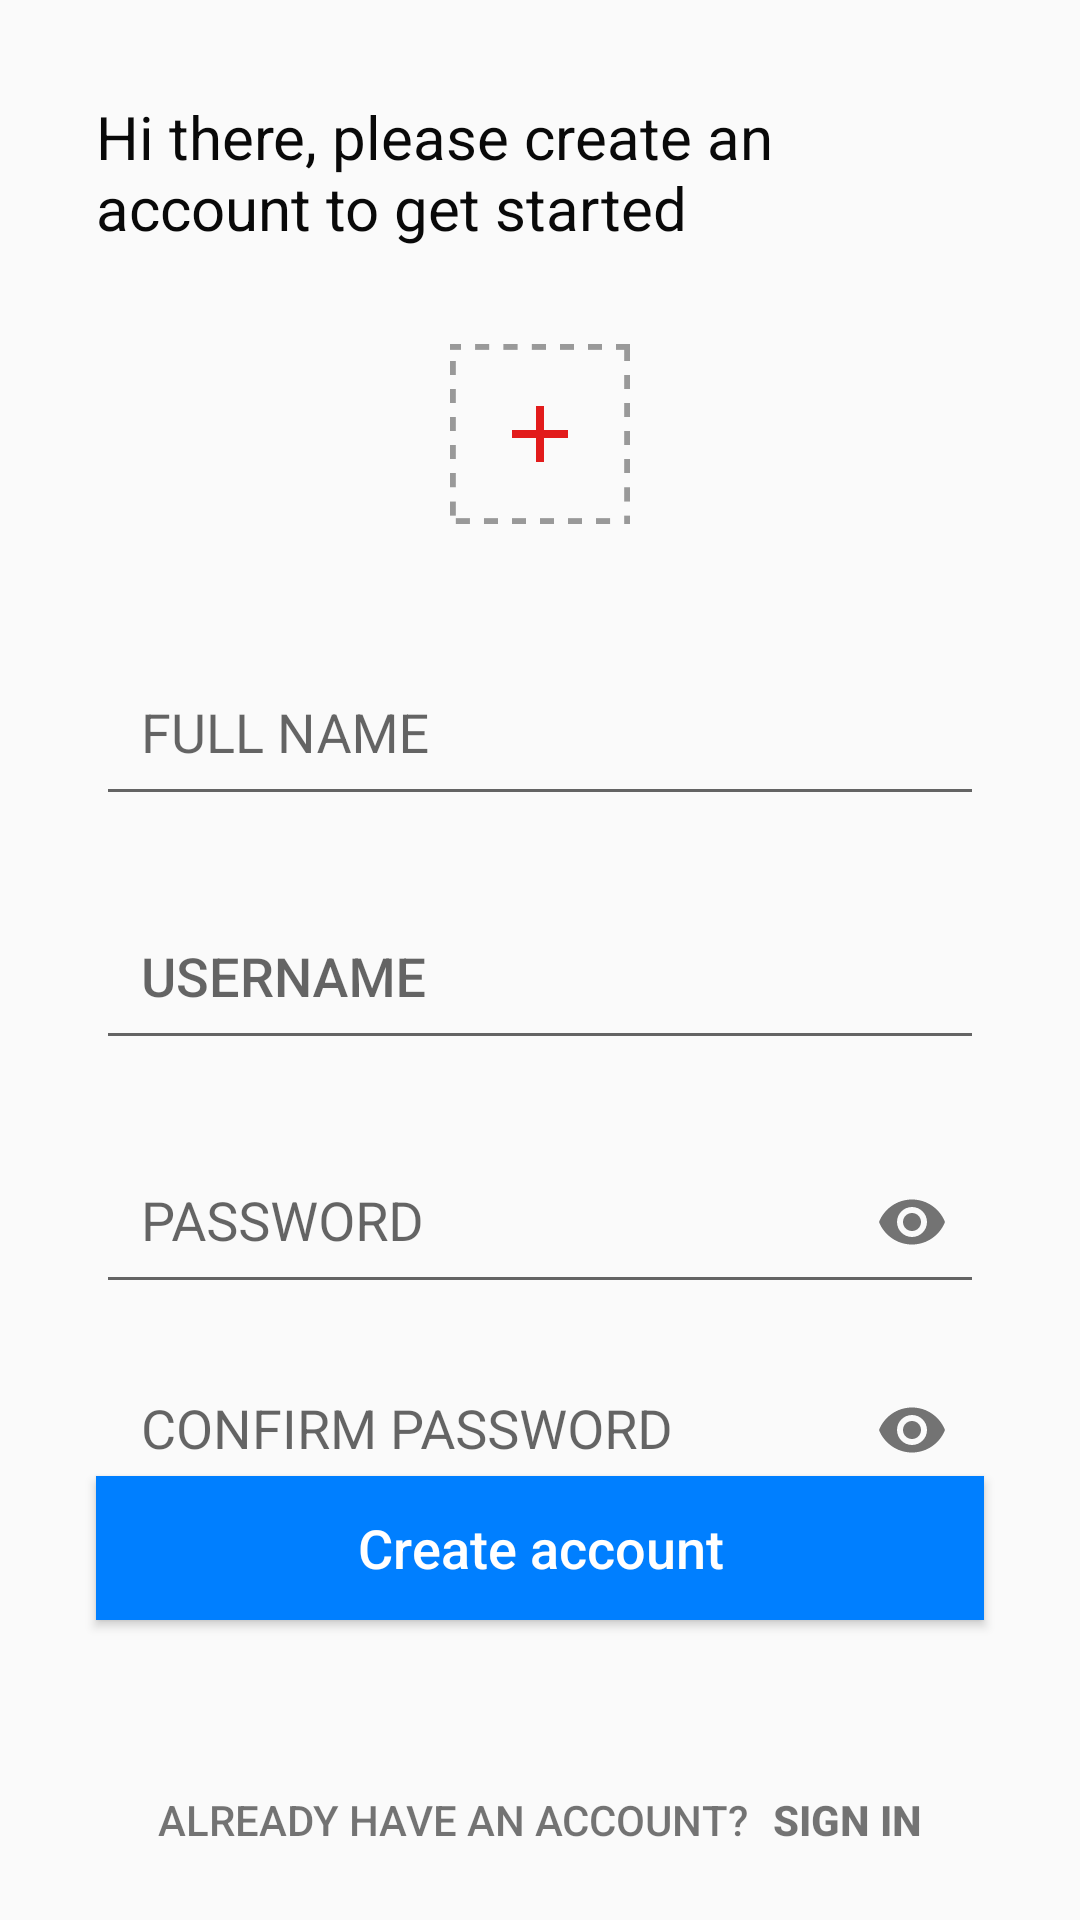

Icons on this 1080 x 1920 Android screen, each with its box as detection(x1, y1, x2, y2):
add: detection(450, 344, 630, 524)
